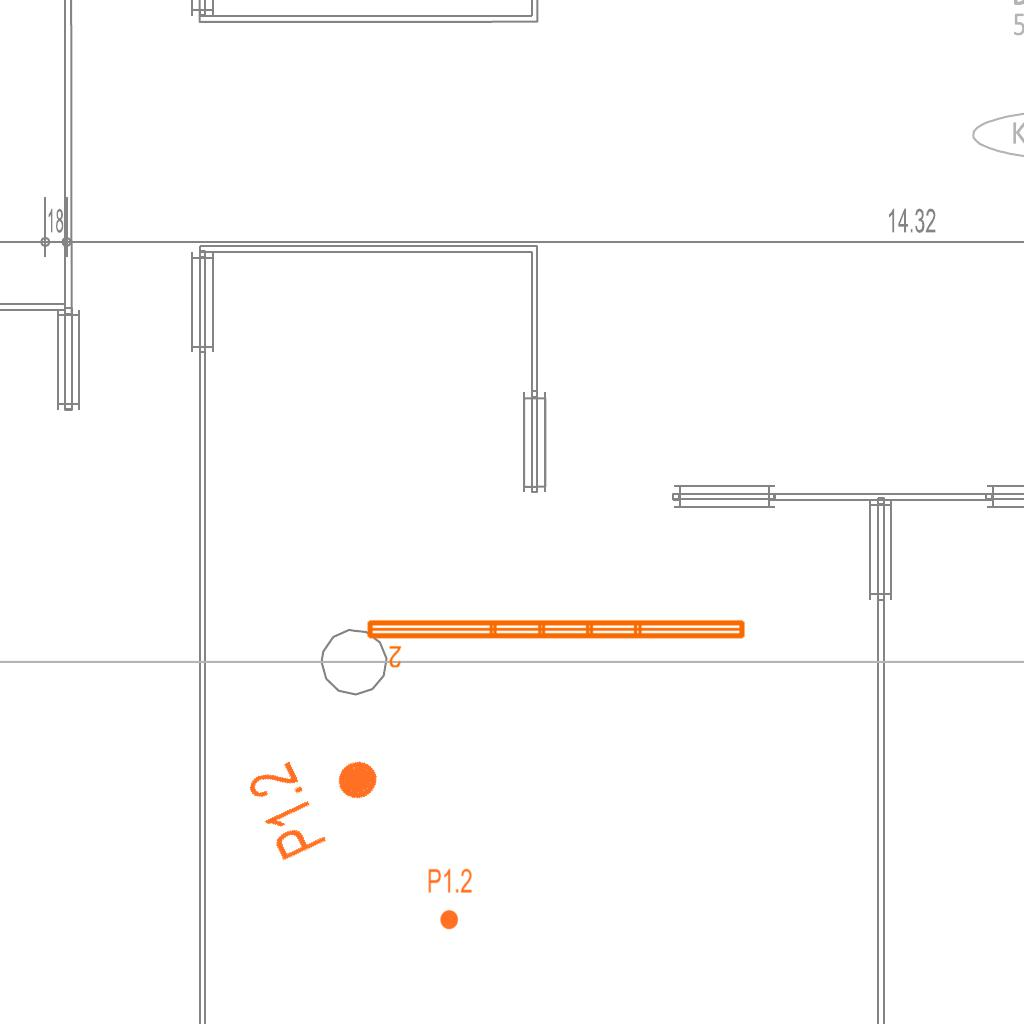Ambulanz_Pendelleuchte_LED: (363, 614, 750, 670)
Downlight_LED_Einbauleuchten_Flur: (241, 726, 398, 866), (427, 867, 473, 931)
